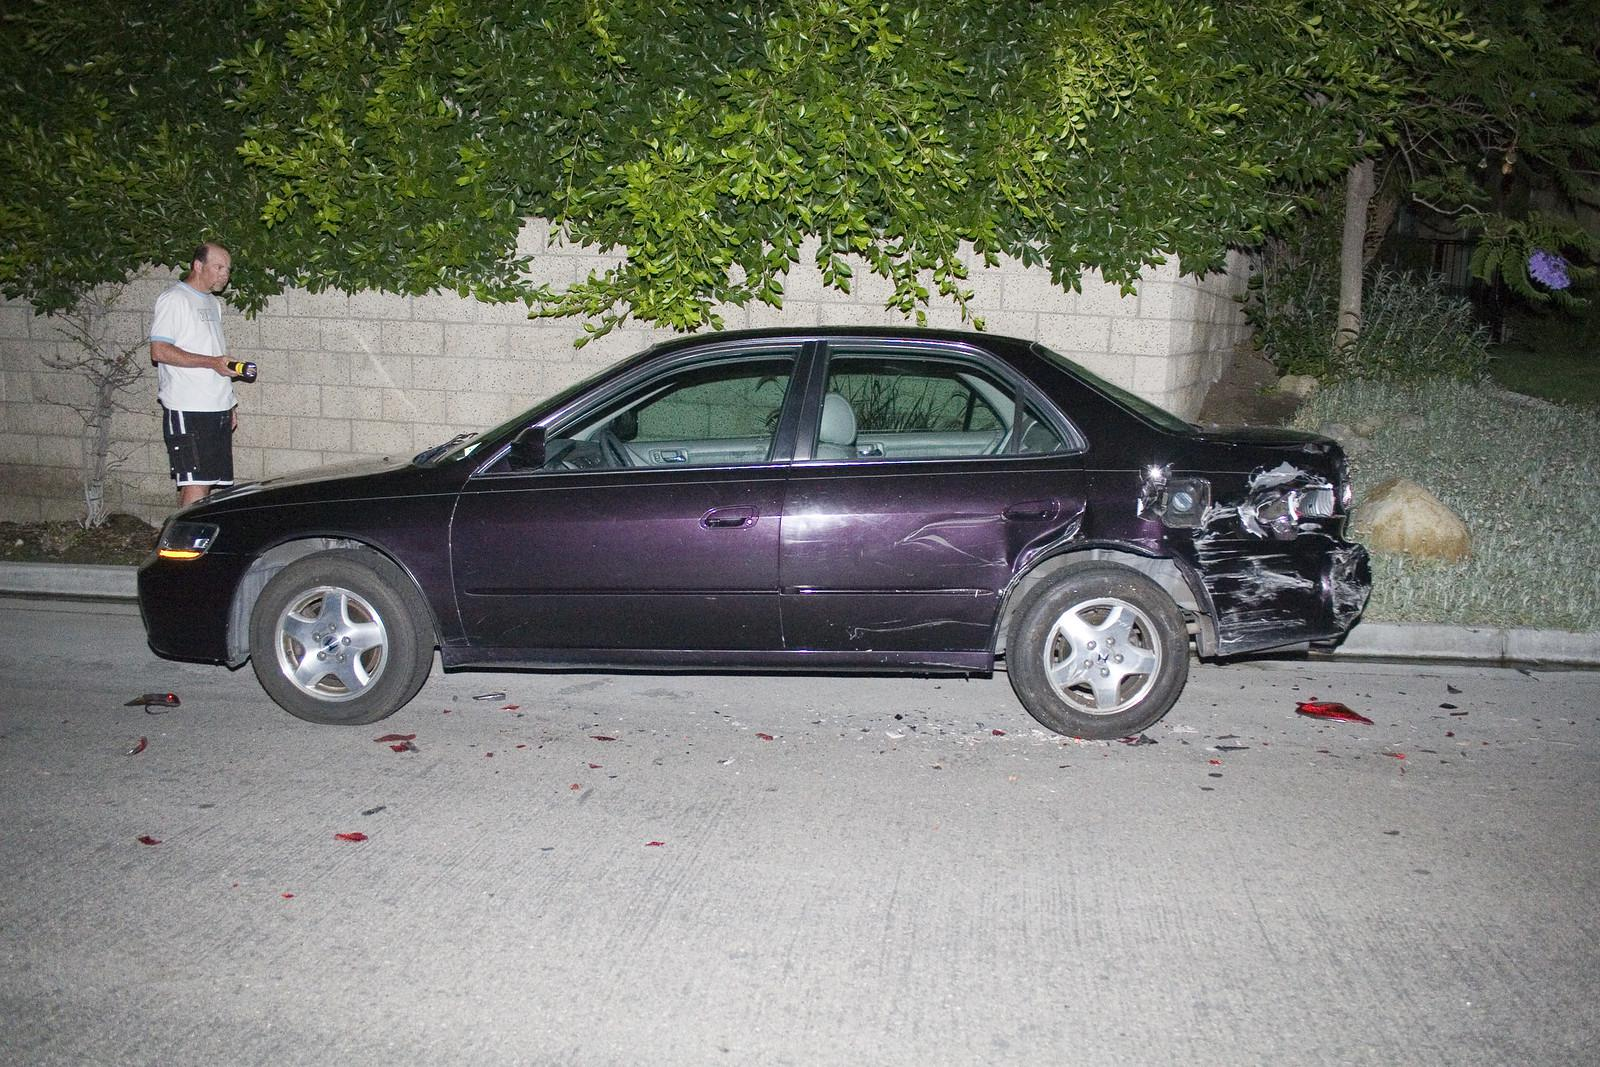doorouter-dent: (763, 478, 1010, 684)
quaterpanel-dent: (1015, 460, 1307, 635)
rear-bumper-dent: (1315, 458, 1405, 628)
